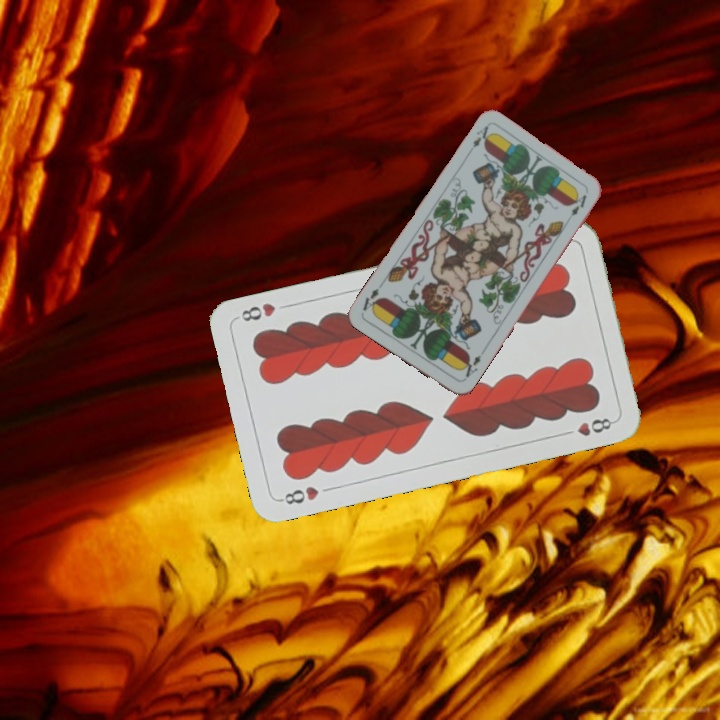EA: (457, 351, 484, 383), (468, 122, 494, 150)
H8: (276, 482, 322, 507)
